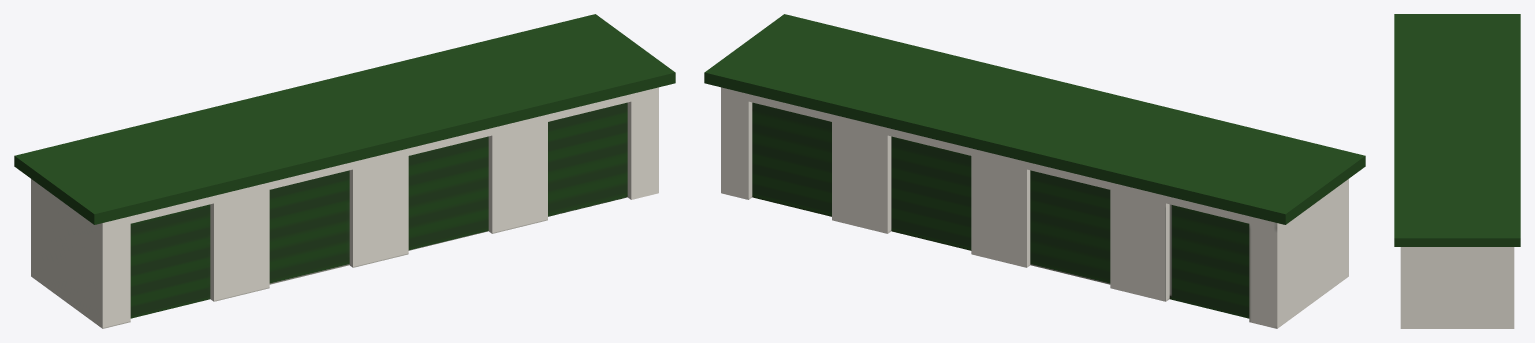
File: StorageUnit.glb
The picture shows the model from 3 angles, left to right: view 1: azimuth 30°, elevation 25°; view 2: azimuth 150°, elevation 25°; view 3: azimuth 270°, elevation 25°; orthographic projection. The views are drawn at different scales.
Visible parts, largest first — view 1: StorageUnit; view 2: StorageUnit; view 3: StorageUnit.
Boxes of the visible parts, x1,y1,x2,y2 form: StorageUnit: [14, 14, 675, 328]; StorageUnit: [704, 14, 1365, 328]; StorageUnit: [1394, 14, 1520, 328].
Size of what is drawn, in the model's own units: 15.17 by 3.01 by 3.61.
Materials: 1 (1 with a texture image).
